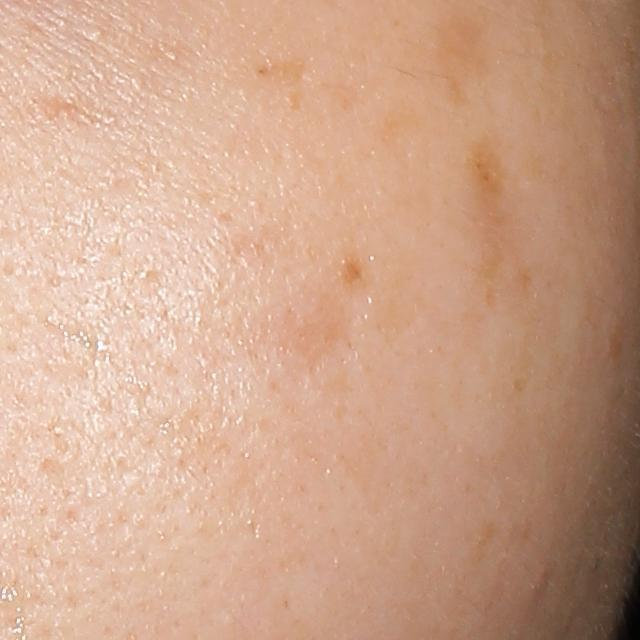melasma: (217, 234, 443, 381), (461, 136, 561, 411), (325, 73, 435, 176), (248, 46, 317, 122), (28, 80, 121, 135)
